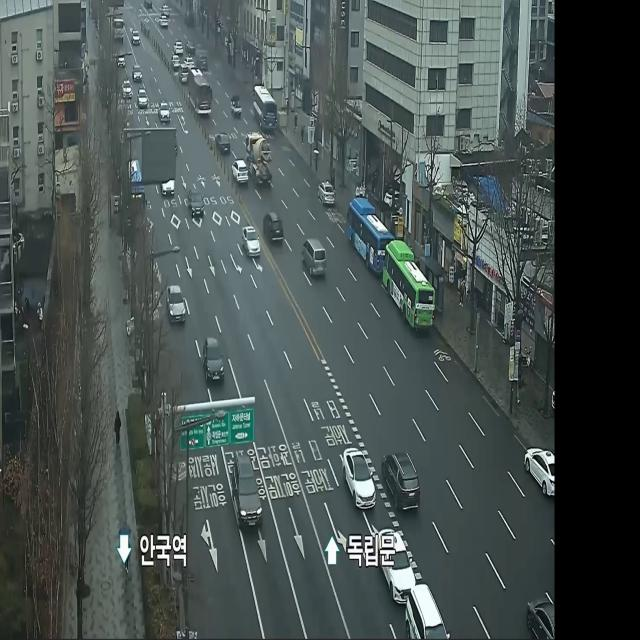car: (382, 238, 436, 336), (347, 196, 395, 277), (252, 81, 278, 132), (127, 158, 146, 214), (189, 66, 211, 113)
motorcycle: (375, 526, 416, 603), (406, 581, 450, 640), (382, 449, 420, 514), (342, 444, 377, 511), (233, 455, 263, 532), (524, 440, 554, 500), (528, 593, 554, 640), (301, 235, 327, 279), (203, 336, 224, 386), (166, 281, 186, 323), (263, 210, 284, 246), (242, 222, 261, 259), (188, 186, 206, 219), (318, 178, 336, 209), (231, 158, 249, 185), (214, 131, 232, 155), (195, 44, 209, 72), (230, 94, 242, 117), (159, 99, 170, 122), (137, 86, 148, 108), (133, 62, 143, 84), (180, 62, 190, 84), (122, 79, 132, 99), (131, 28, 141, 47), (171, 52, 180, 68), (174, 40, 184, 54), (118, 50, 125, 68), (160, 14, 168, 27)
truck: (246, 129, 272, 187), (112, 7, 125, 40)
